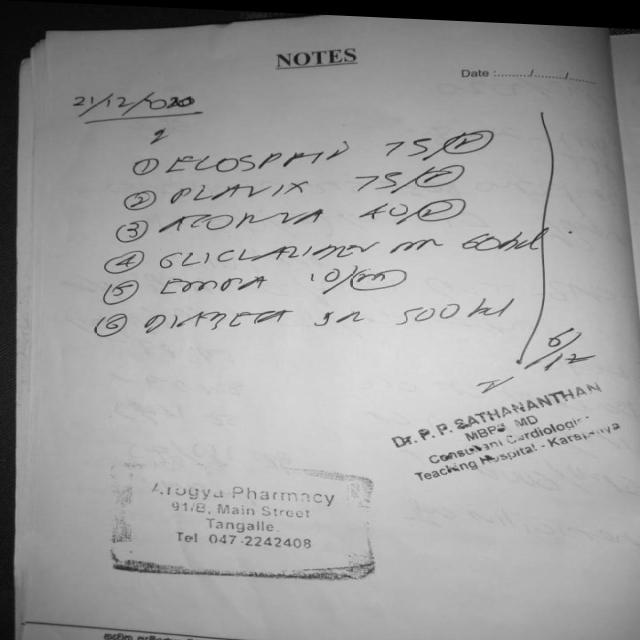Prescription: (153, 216, 548, 273), (163, 114, 503, 180), (141, 284, 519, 338), (162, 156, 476, 206), (156, 189, 476, 237), (156, 258, 414, 294)
